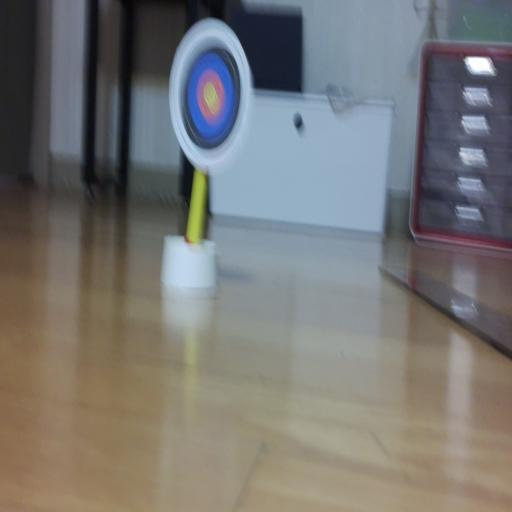target: (169, 18, 252, 174)
